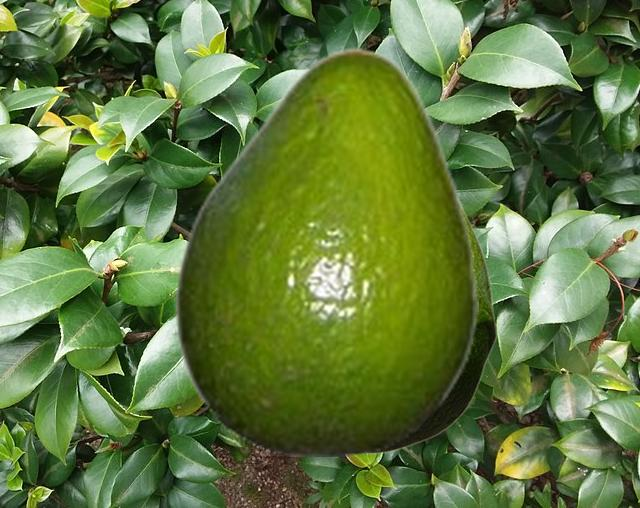avocado: (173, 46, 477, 455), (371, 198, 496, 453)
